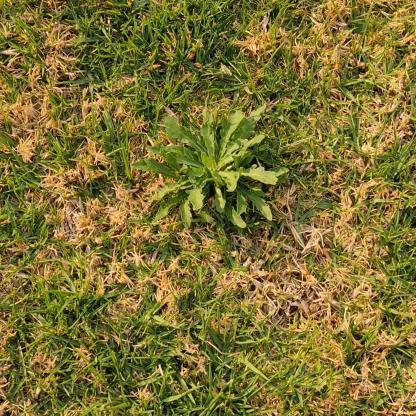Weeds: (130, 104, 290, 229)
